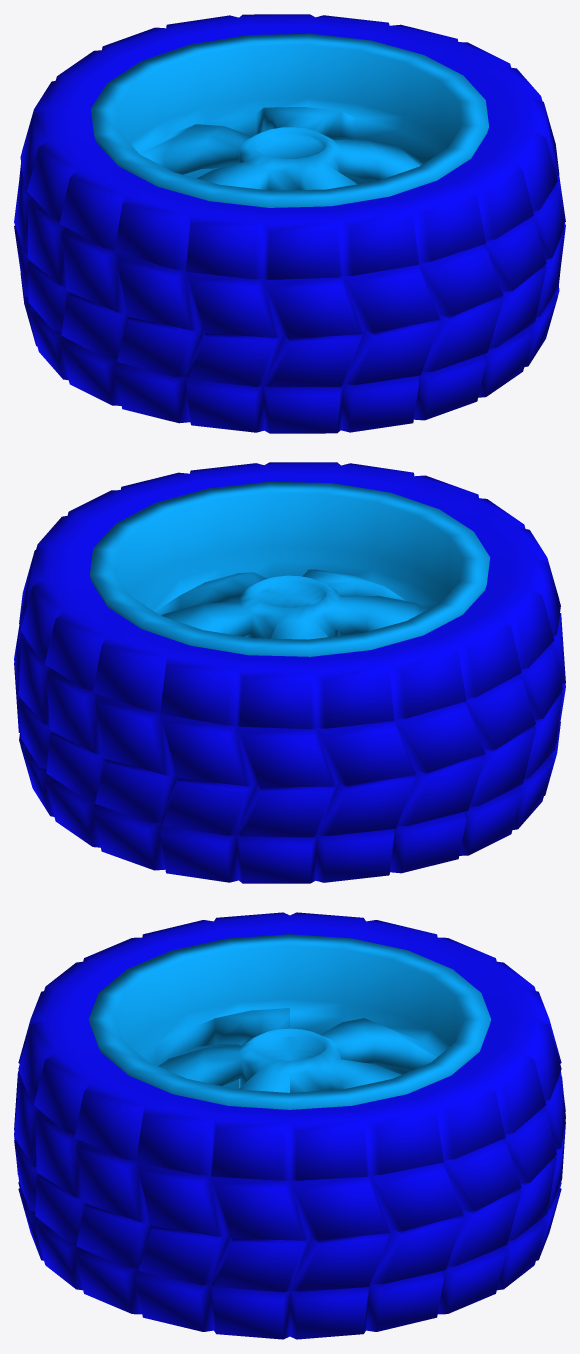
The model's file is Tyre & Rims.fbx.
3 renders of one model, top to bottom at view 1: azimuth 30°, elevation 25°; view 2: azimuth 150°, elevation 25°; view 3: azimuth 270°, elevation 25°, orthographic.
Visible parts, largest first — view 1: Cylinder2581; view 2: Cylinder2581; view 3: Cylinder2581.
Part boxes in pixels (x1,y1,x2,y2): Cylinder2581: (14,14,565,433); Cylinder2581: (14,462,565,883); Cylinder2581: (14,912,565,1339).
Size of the model in its own units: 0.8196 by 0.3518 by 0.8196.
